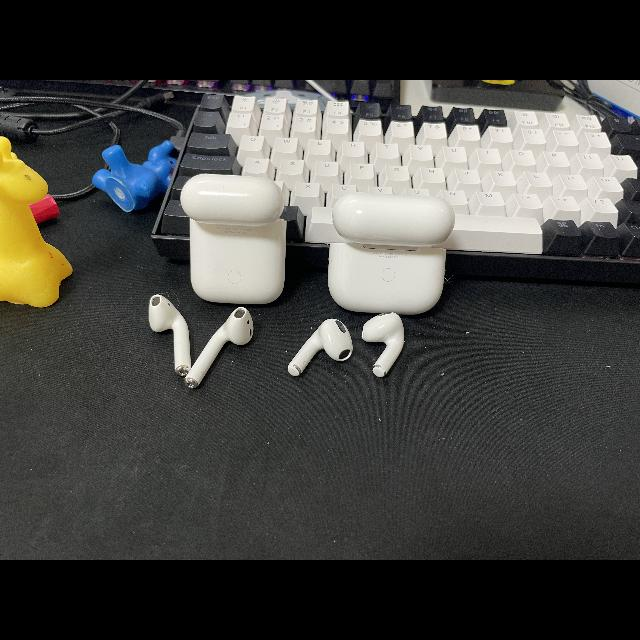airpod2: (136, 172, 290, 388)
airpod3: (288, 188, 454, 386)
